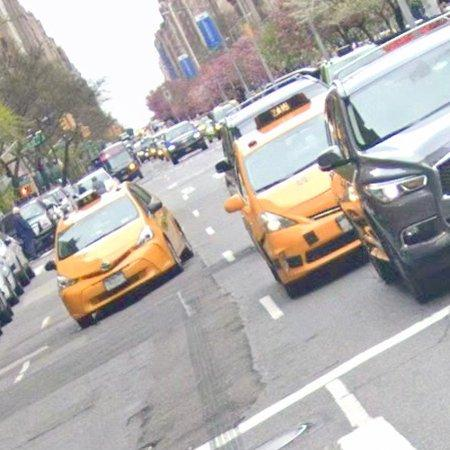taxis: (226, 93, 362, 291), (49, 183, 193, 327)
